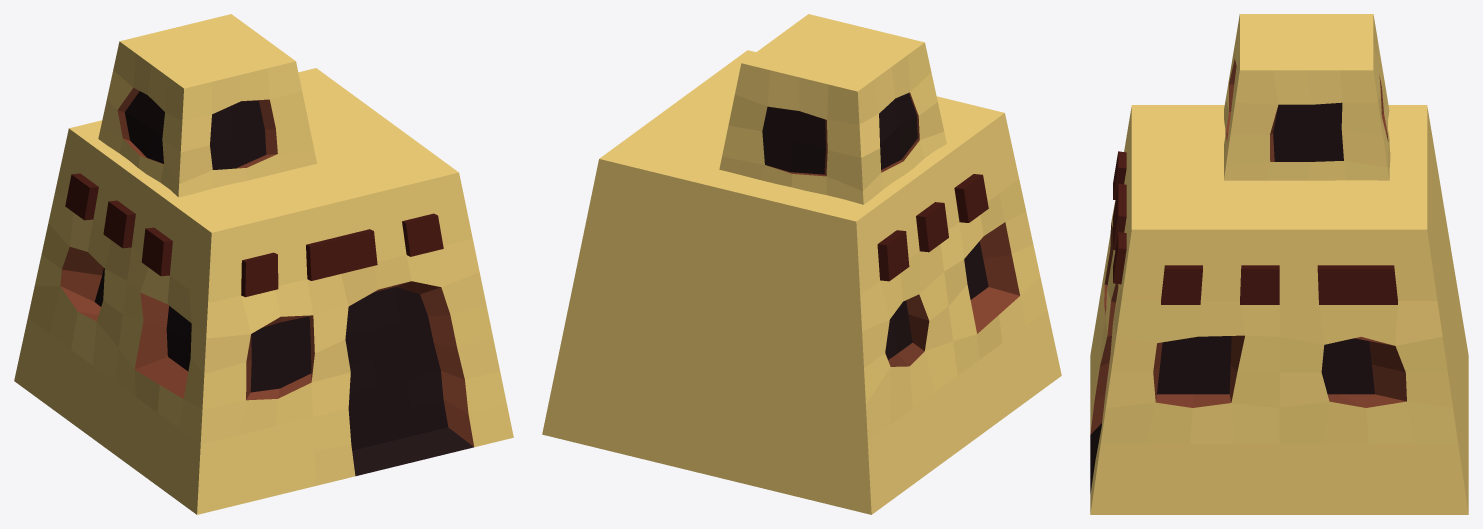
File: House Dessert 1.fbx
3 views of the same model, side by side, from view 1: azimuth 30°, elevation 25°; view 2: azimuth 150°, elevation 25°; view 3: azimuth 270°, elevation 25° (orthographic). The views are drawn at different scales.
Visible parts, largest first — view 1: Cube, Cube.001; view 2: Cube, Cube.001; view 3: Cube, Cube.001.
Part boxes in pixels (x1,y1,x2,y2): Cube: [14, 68, 513, 514]; Cube.001: [98, 14, 316, 197]; Cube: [542, 50, 1061, 514]; Cube.001: [719, 14, 946, 204]; Cube: [1090, 105, 1468, 514]; Cube.001: [1224, 14, 1390, 180].
Bounding box in the file's own units: 256 × 277 × 256.
